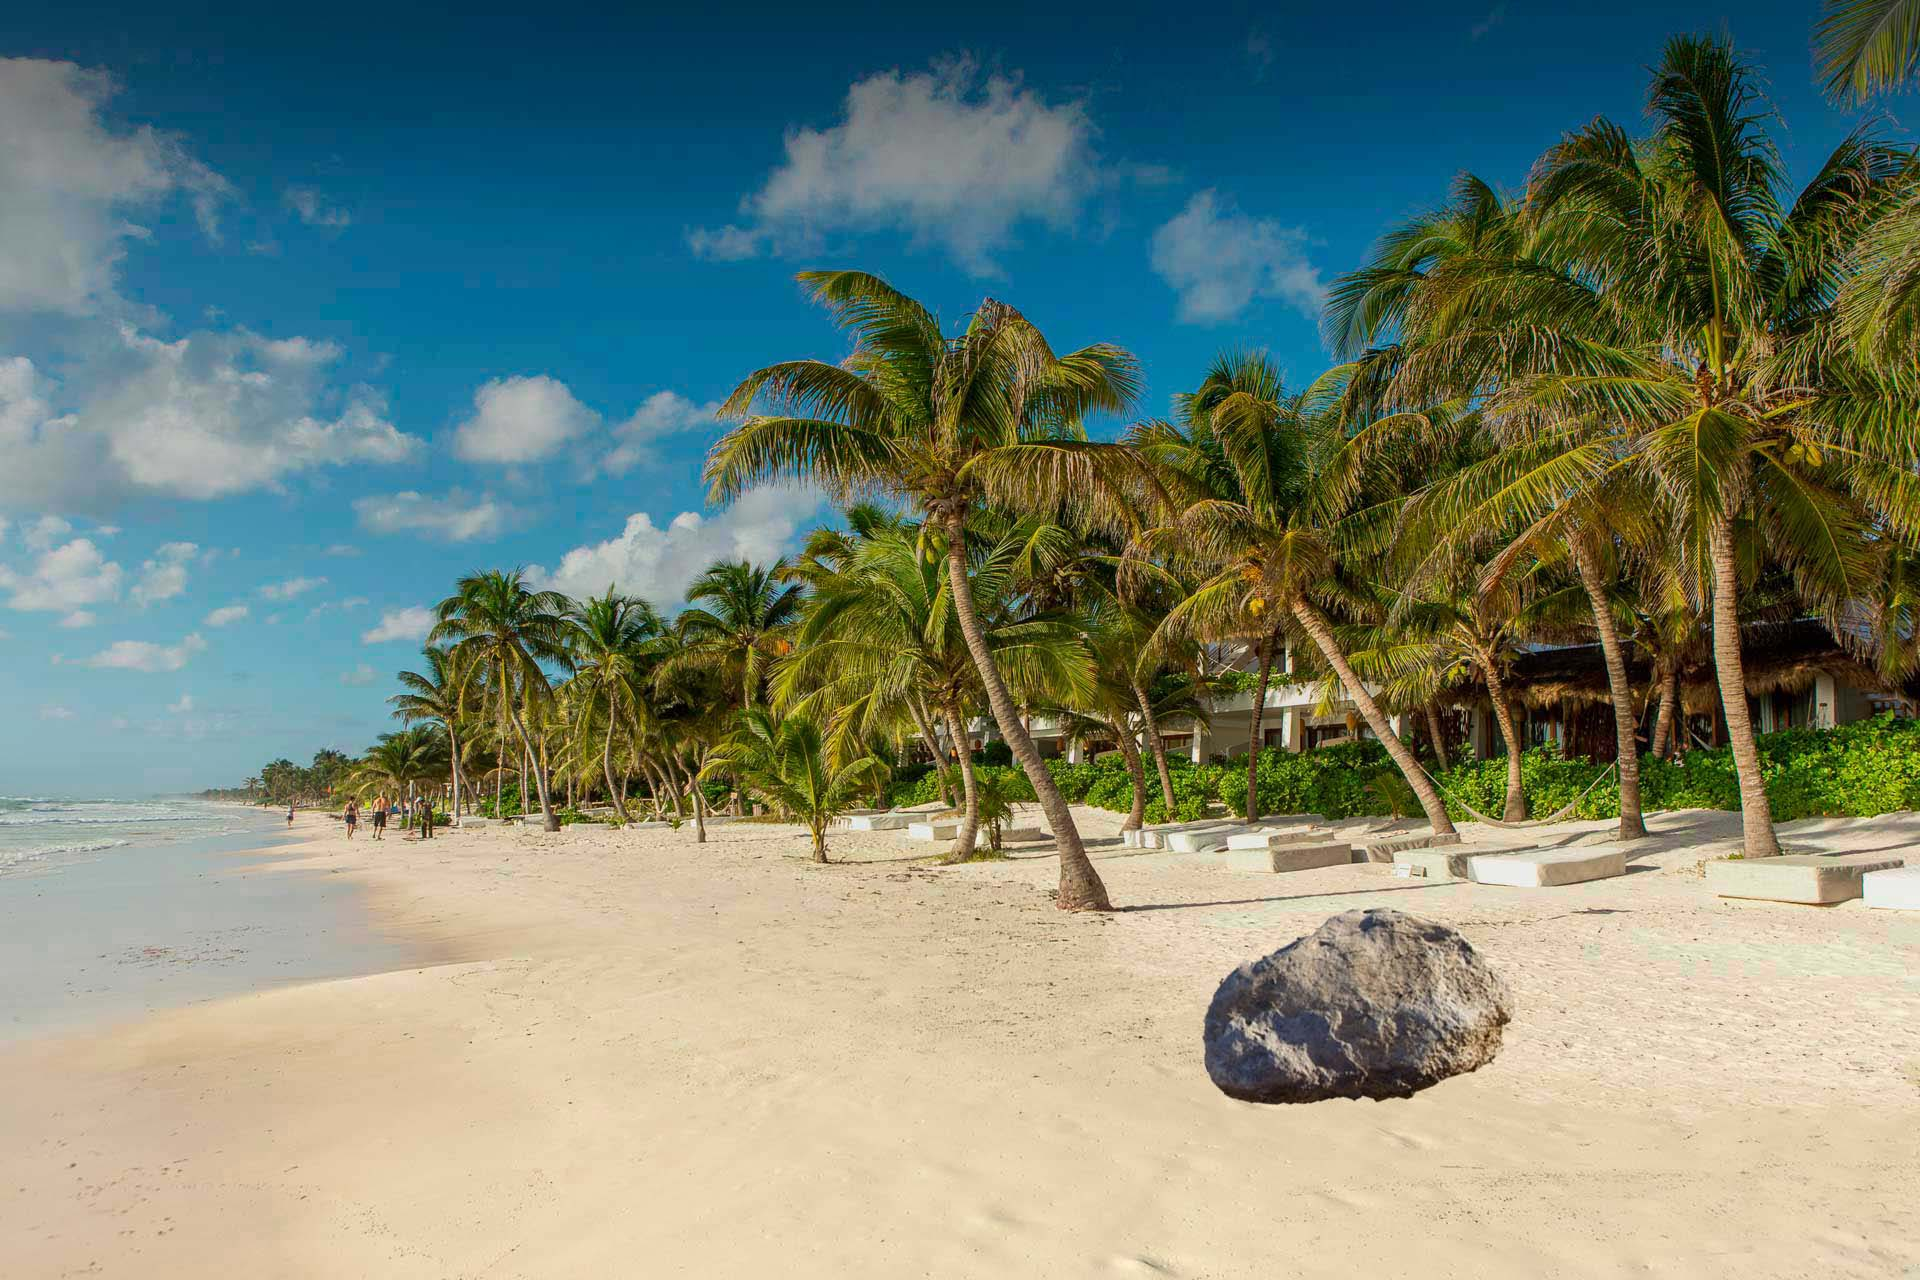Rocks: (1173, 891, 1520, 1121)
